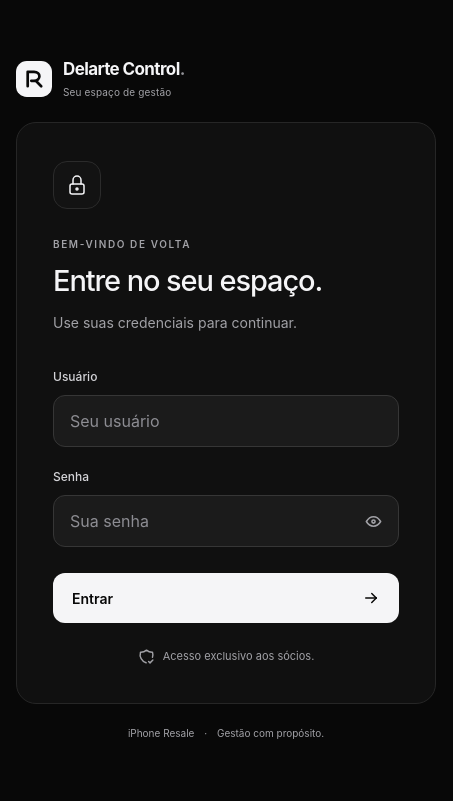
Test: authentication and routing › shows a network error on login
Type "socio.teste" into the field labelled "Usuário".
click(226, 421); type("socio.teste")  # box [53, 395, 399, 447]
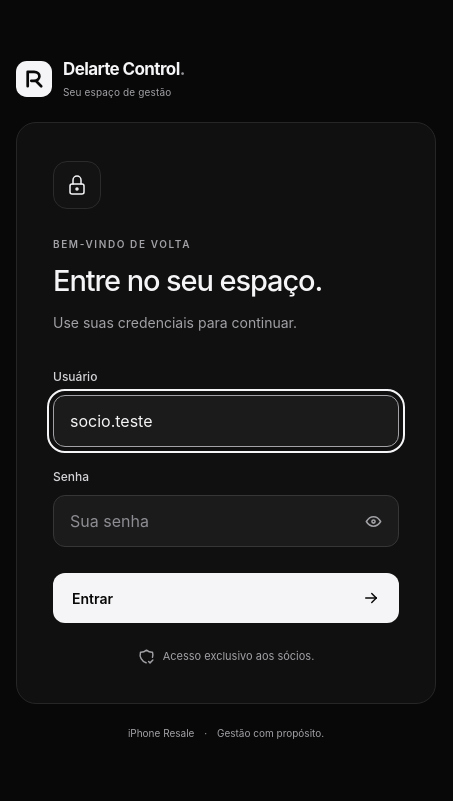
Type "valid-test-password" into the password field labelled "Senha".
click(226, 521); type("valid-test-password")  # box [53, 495, 399, 547]
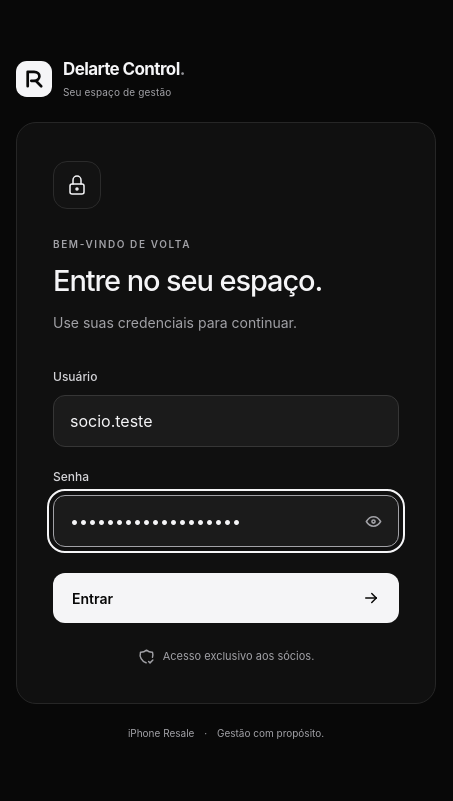
Click the button "Entrar".
click(93, 598)  # box [53, 573, 399, 623]
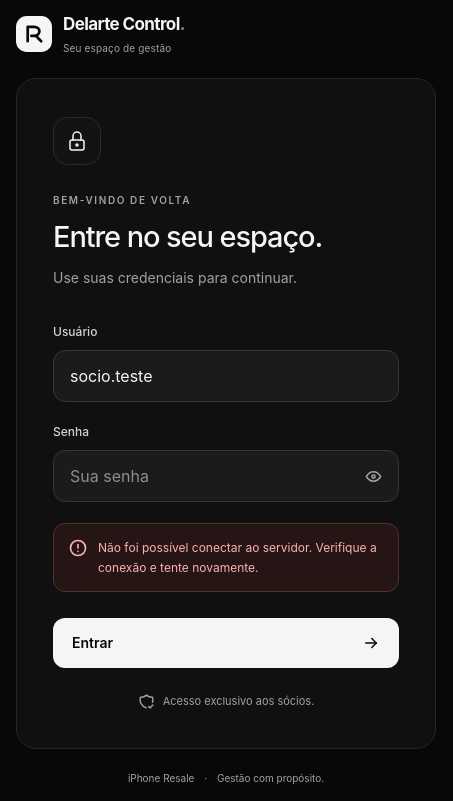
Check: the text "Não foi possível conectar" is shown, box [98, 540, 377, 575]
